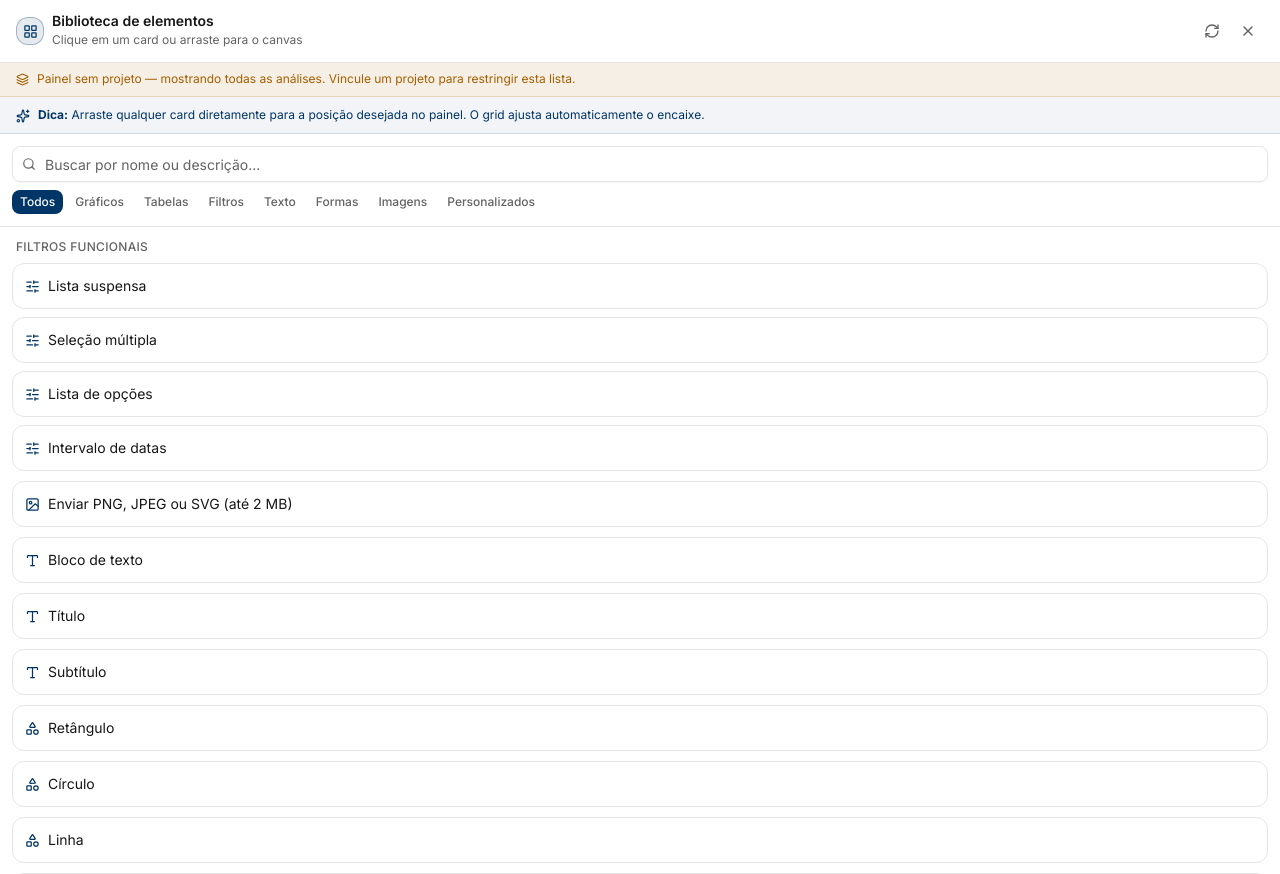
Test: DashboardComponentsDrawer › filtra por categoria (Gráficos vs Tabelas)
Note: Clica no filtro "Tabelas"
Click the button "Tabelas" at (166, 202), box 136,190 -> 196,214
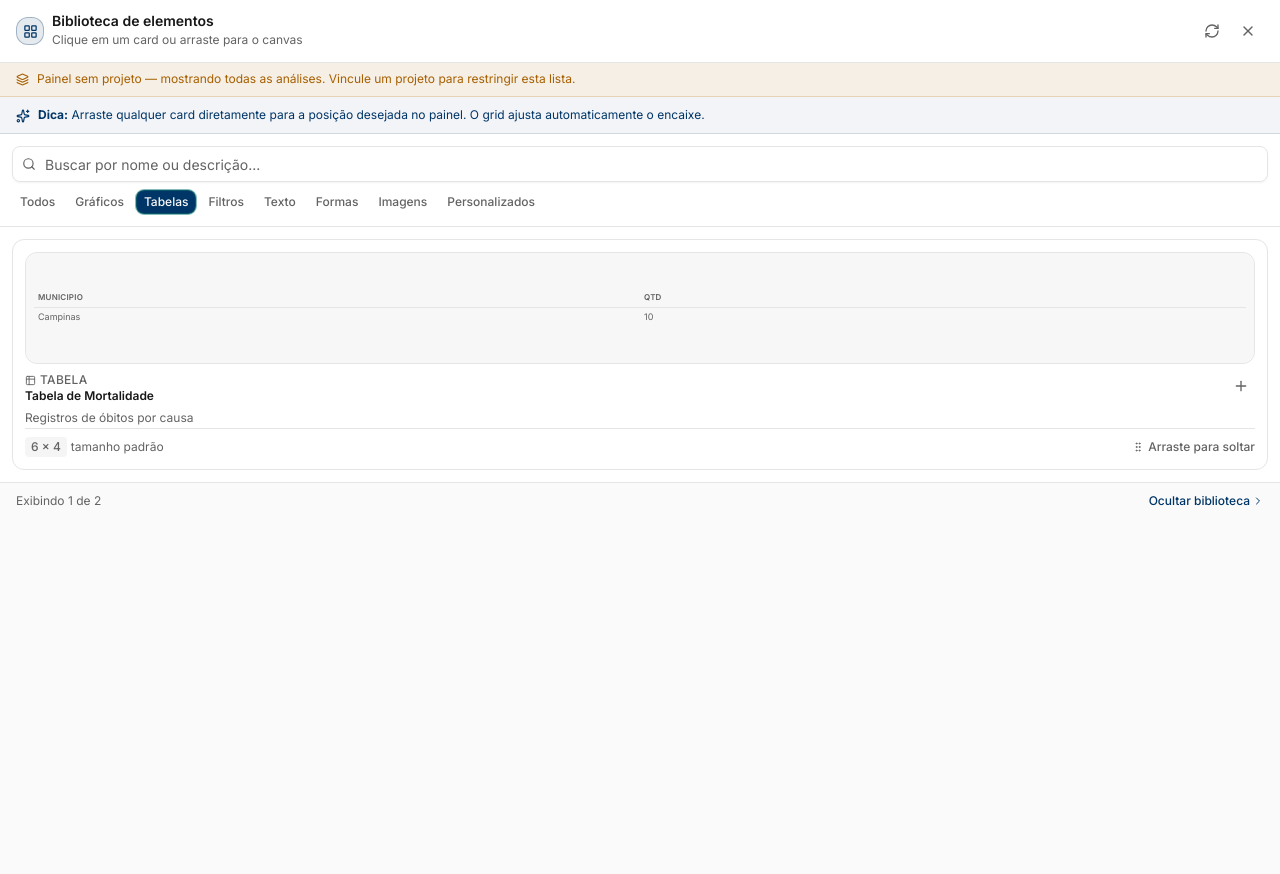
Expected: the heading "Tabela de Mortalidade" is shown, 25,388 -> 154,404
Note: Clica no filtro "Gráficos"
Click the button "Gráficos" at (100, 202), box 67,190 -> 132,214
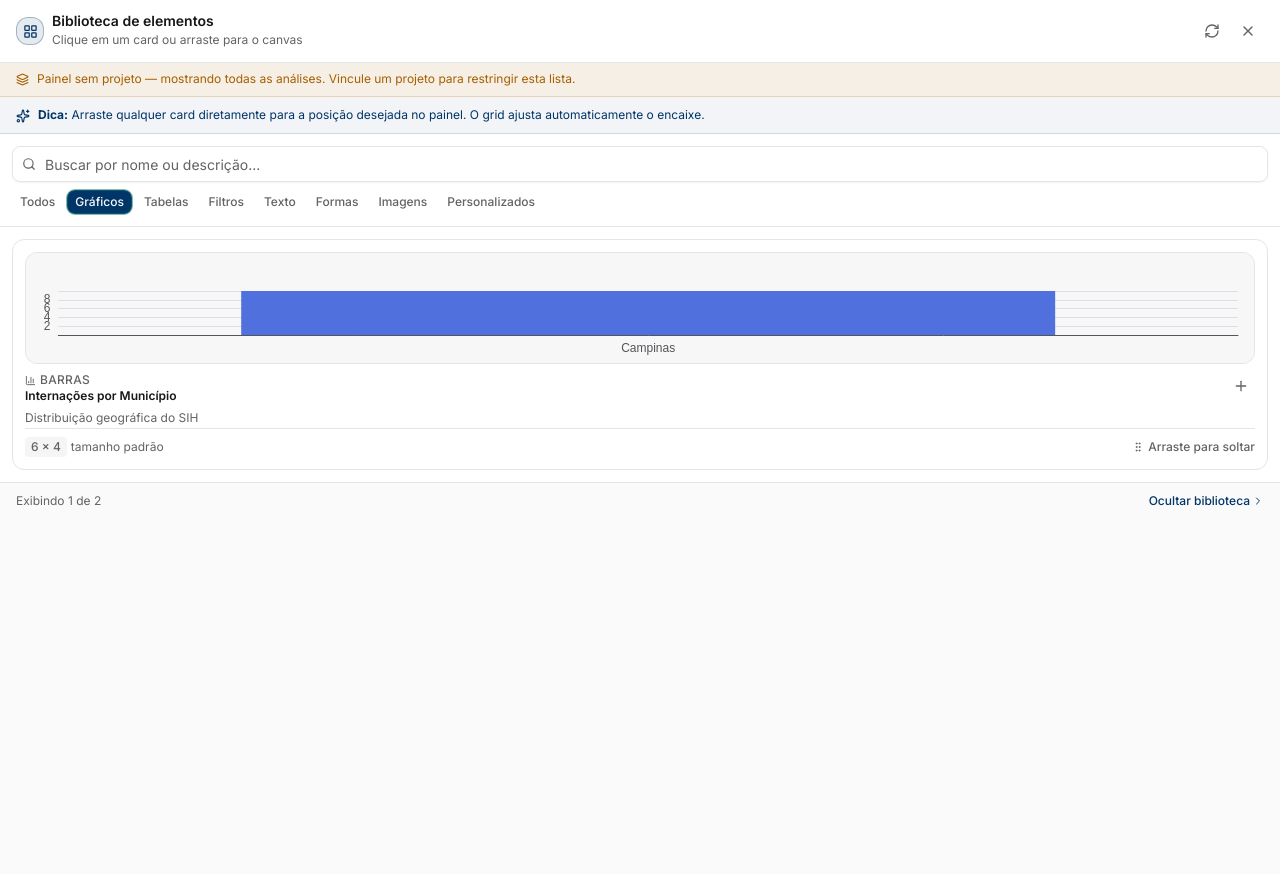
Expected: the heading "Internações por Município" is shown, 25,388 -> 177,404
Expected: the button "Tabela de Mortalidade" is gone
